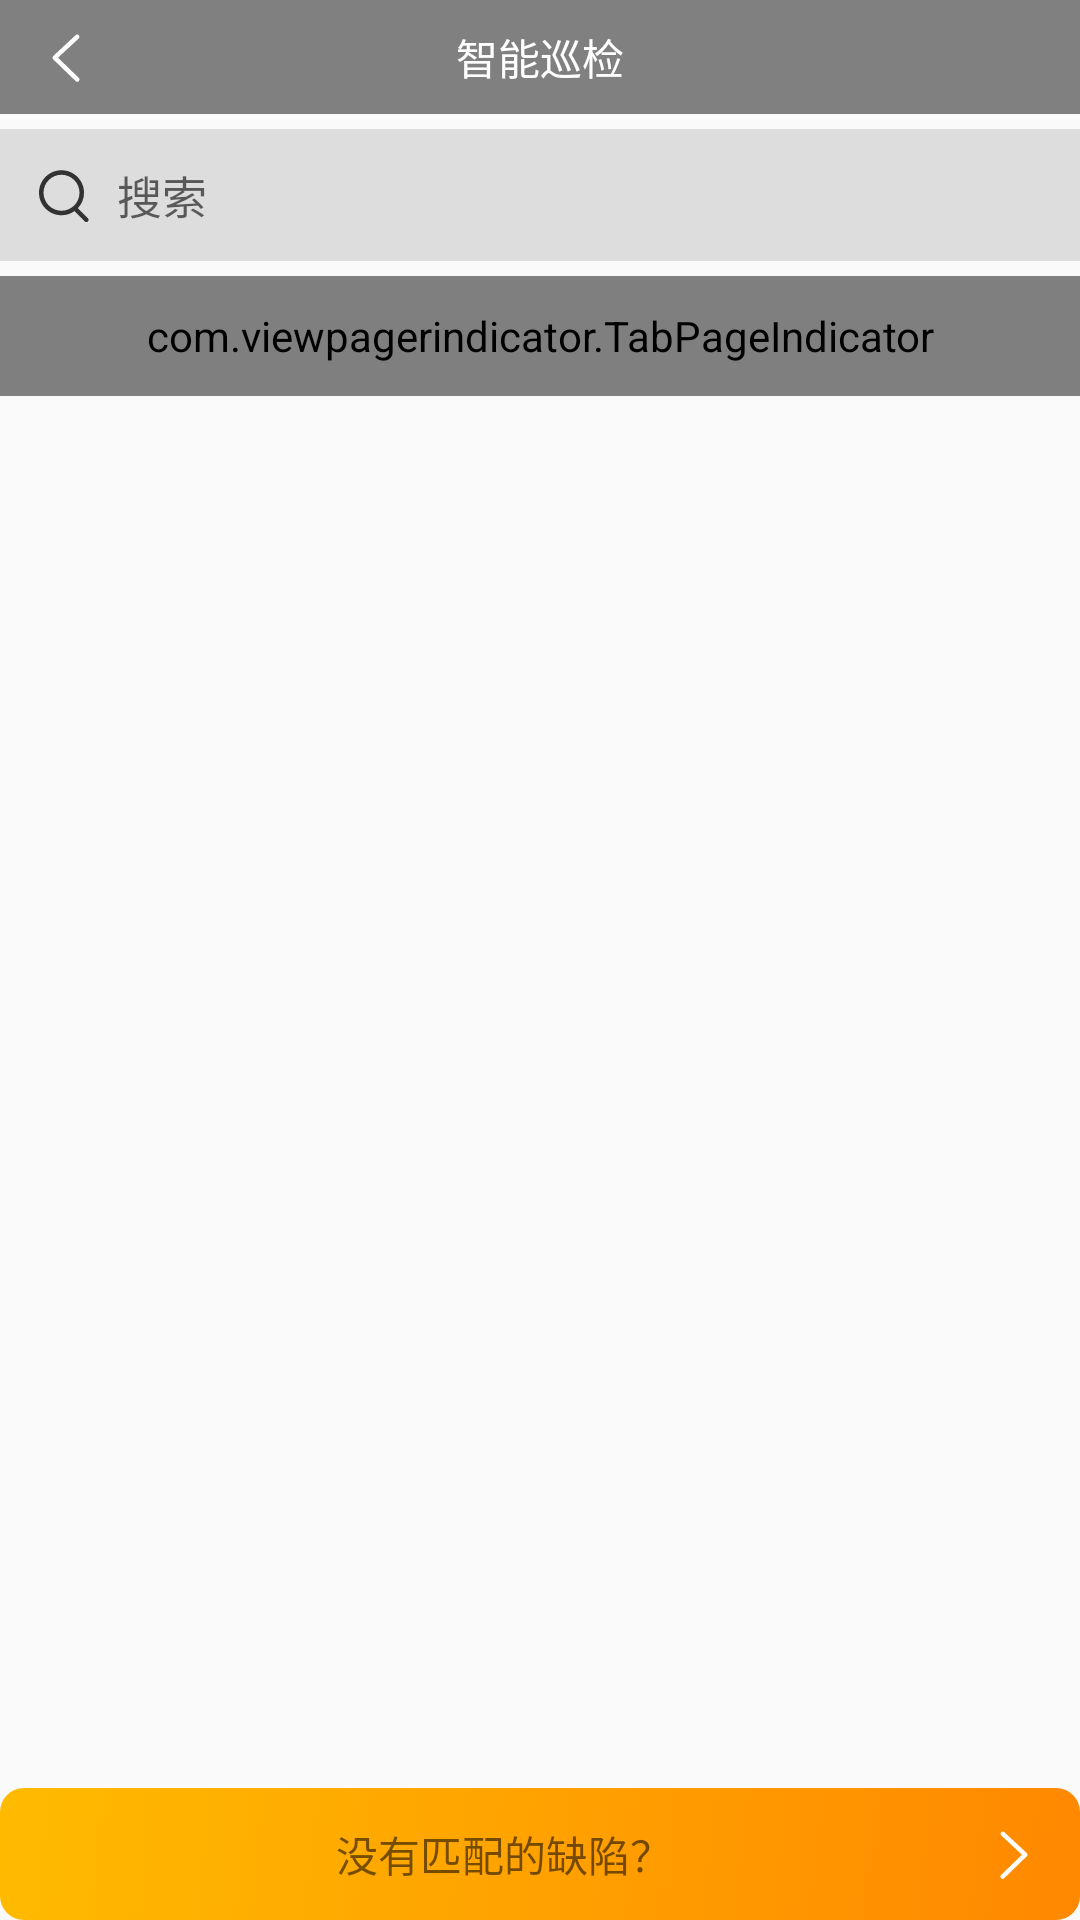

Icon bounding boxes for this 1080w x 1920h phone screenshot, format (x1, y1, x2, y2):
return imageview: (52, 34, 80, 82)
